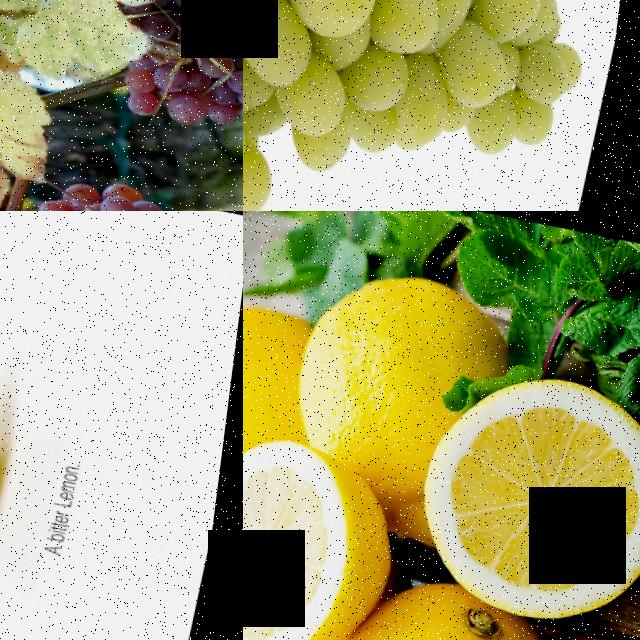grapes: (243, 0, 640, 211), (114, 0, 243, 160), (11, 165, 243, 211)
lemon: (419, 366, 640, 625), (286, 248, 476, 467), (243, 427, 403, 640), (243, 282, 319, 449)
